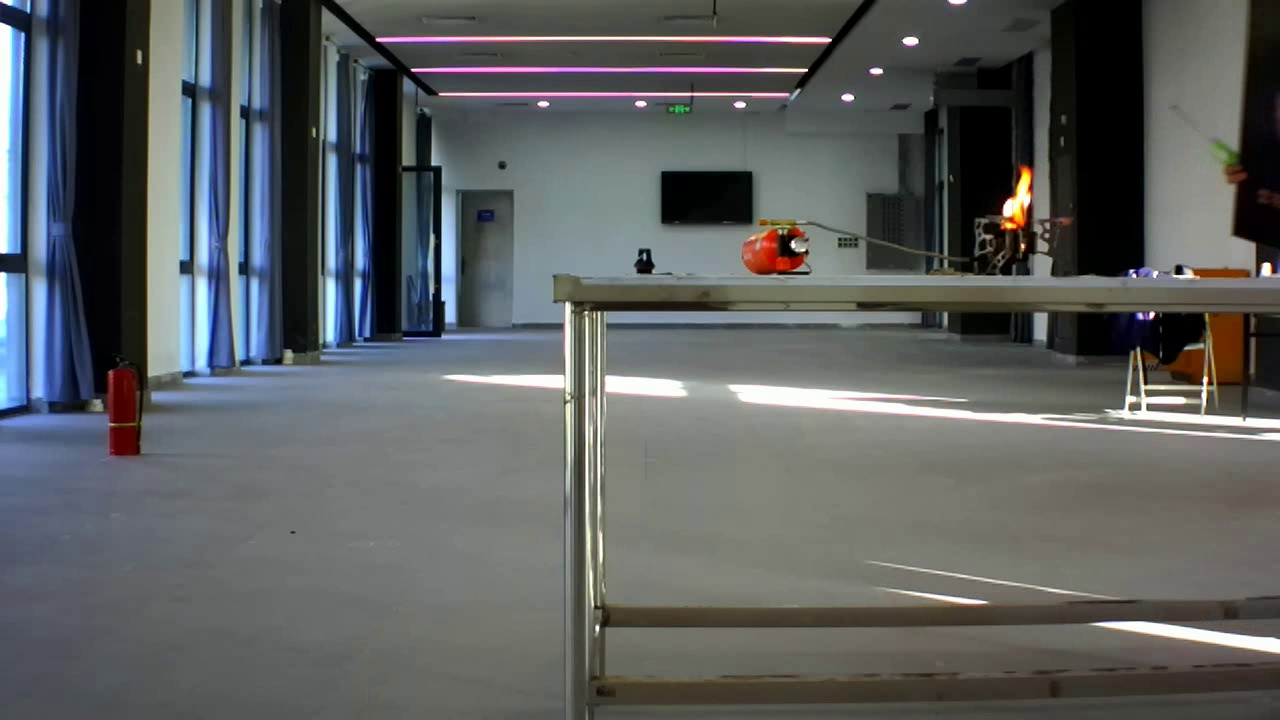Fire: (986, 149, 1039, 234)
